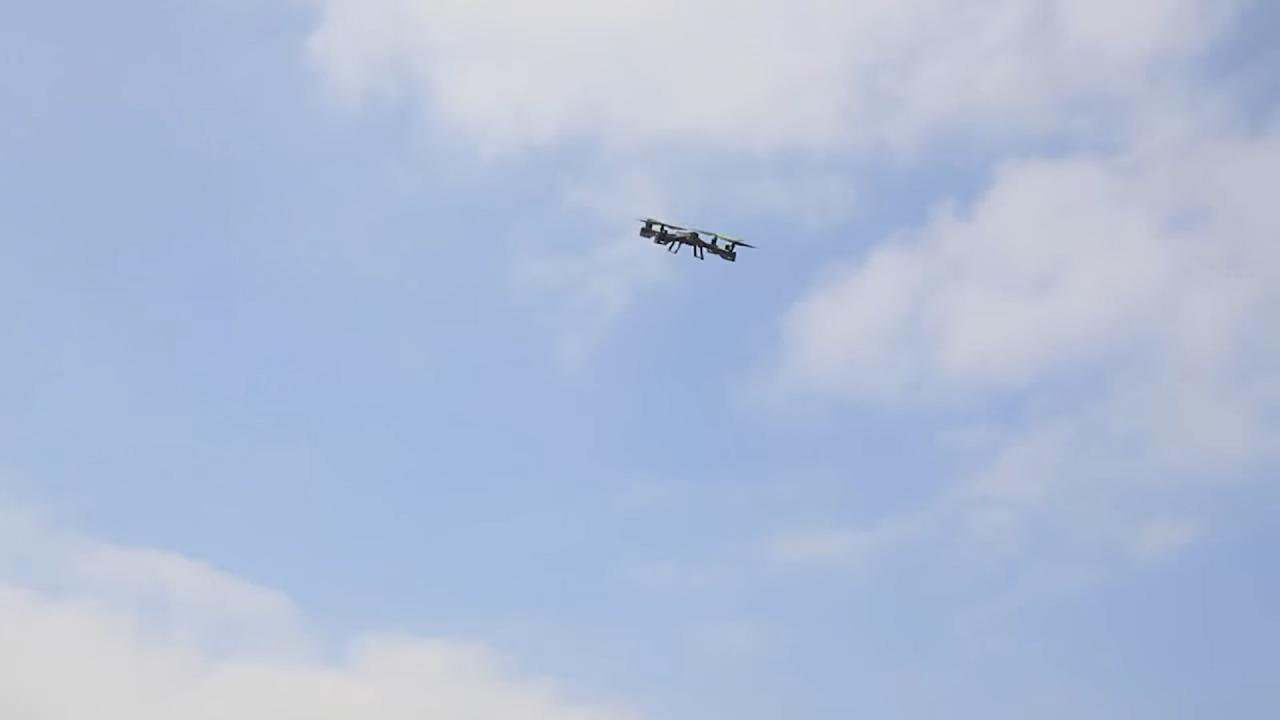Drone: (628, 207, 764, 278)
